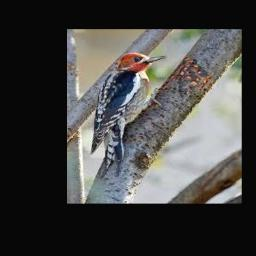Woodpecker: (91, 52, 167, 178)
